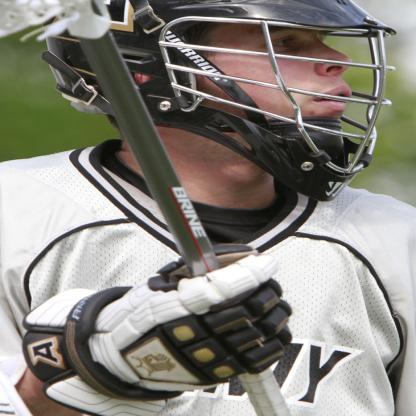Helmet: (40, 0, 400, 202)
